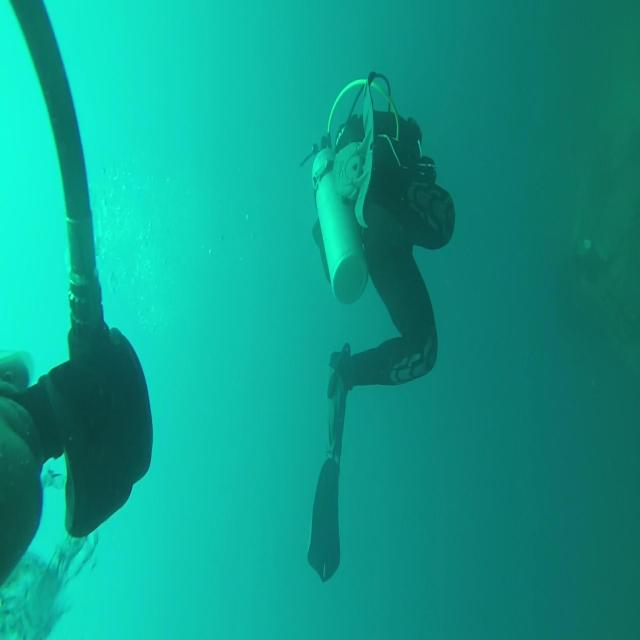human: (301, 70, 456, 582)
